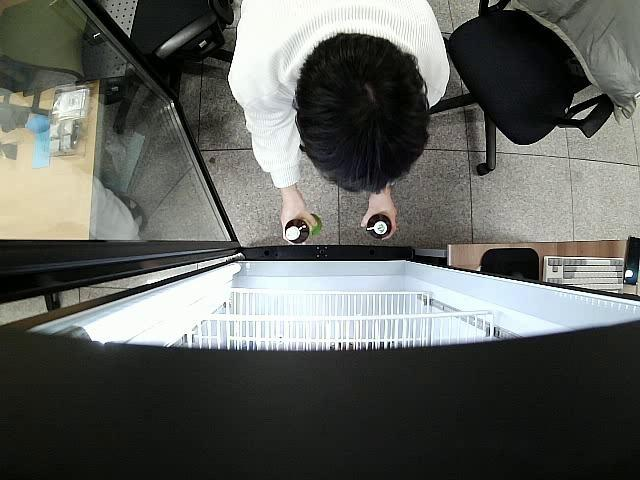19_17cha: (286, 213, 322, 245), (365, 212, 391, 240)
